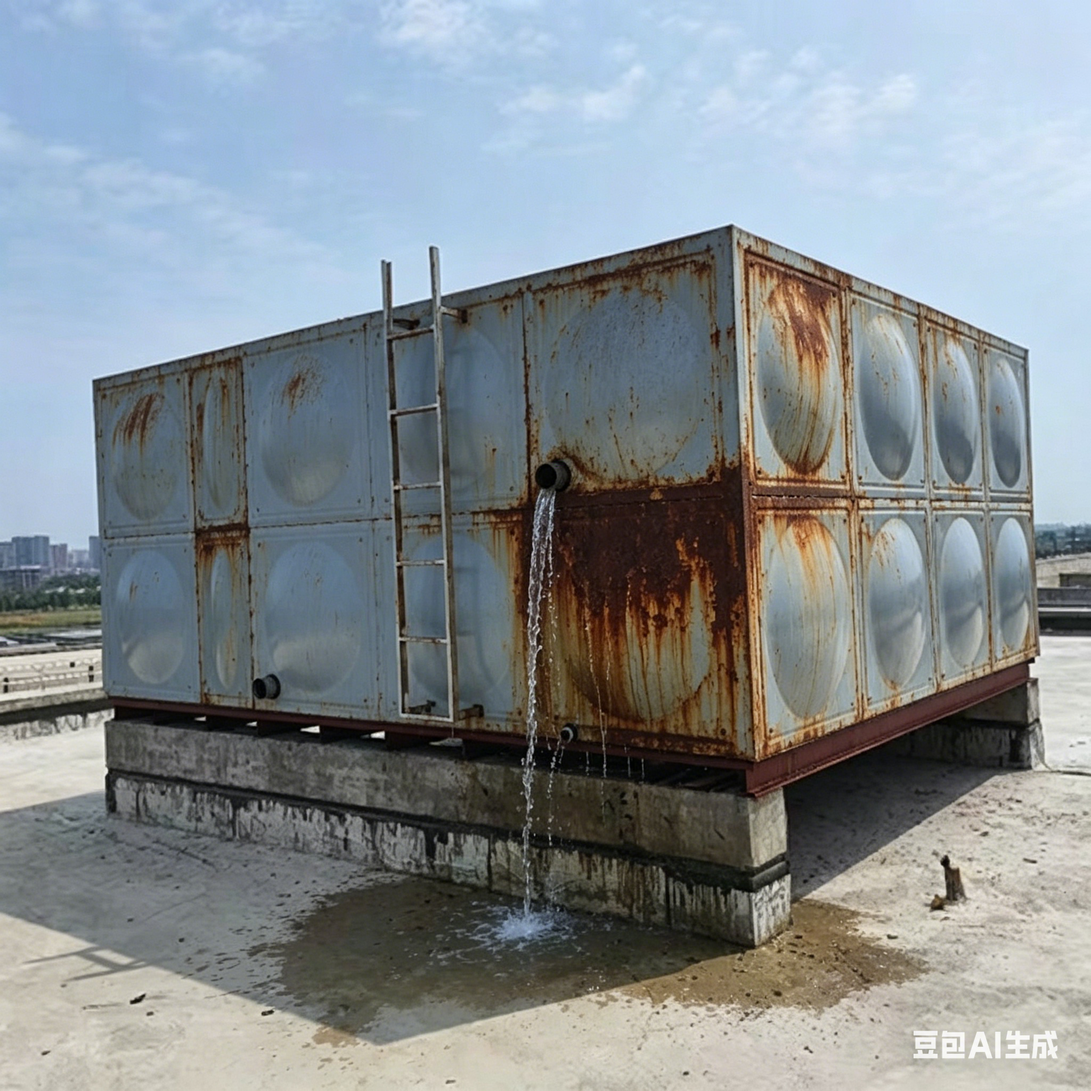Leakage: (499, 449, 604, 993), (297, 842, 489, 1011), (626, 925, 927, 1007)
